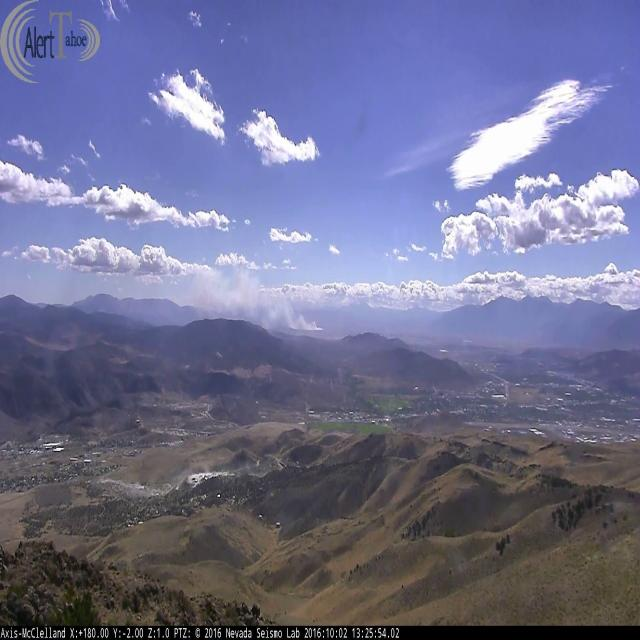smoke: (193, 265, 322, 332)
